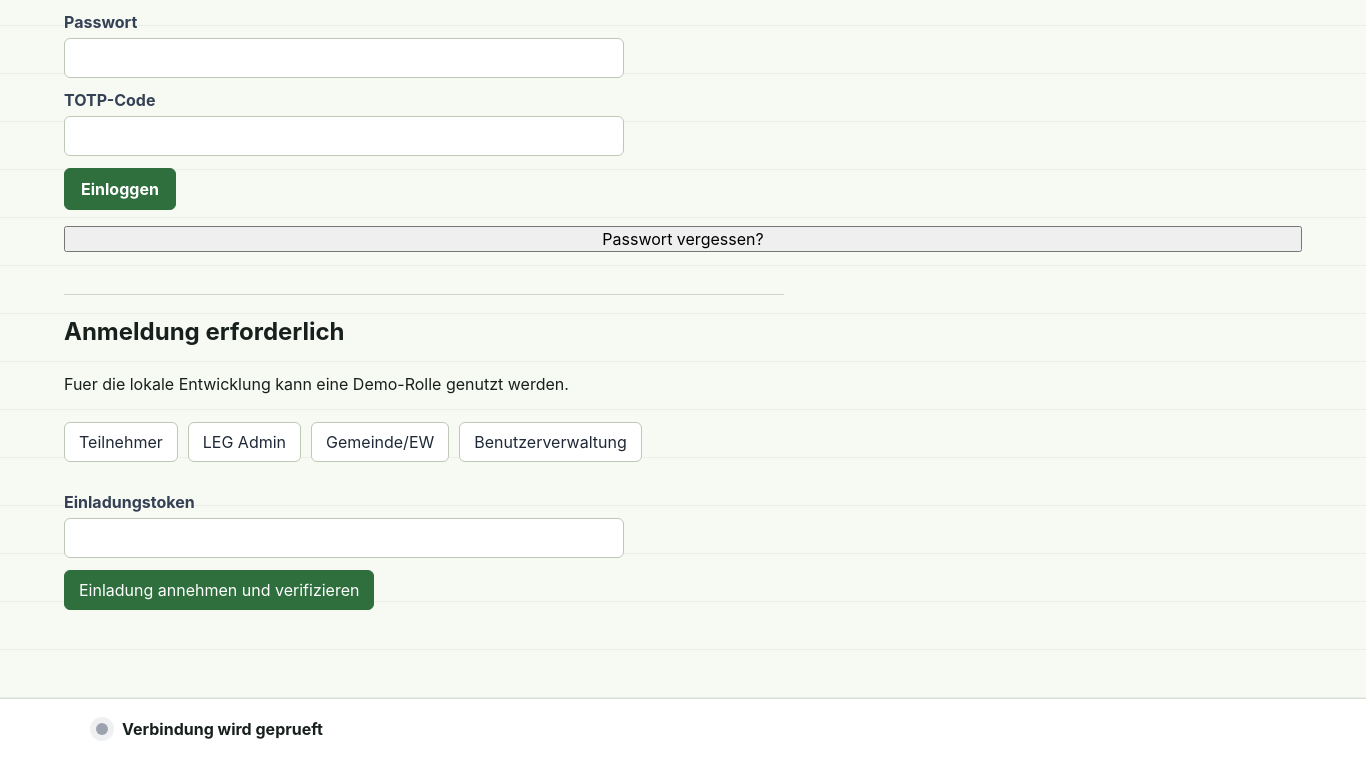
Test: Portal shell › laedt bestehende Zustimmungshistorie beim Teilnehmer-Login
This screenshot has width=1366, height=759.
(page scrolled)
Step 1. Click the button "Teilnehmer" → {"x": 121, "y": 442}, box [64,422,178,462]
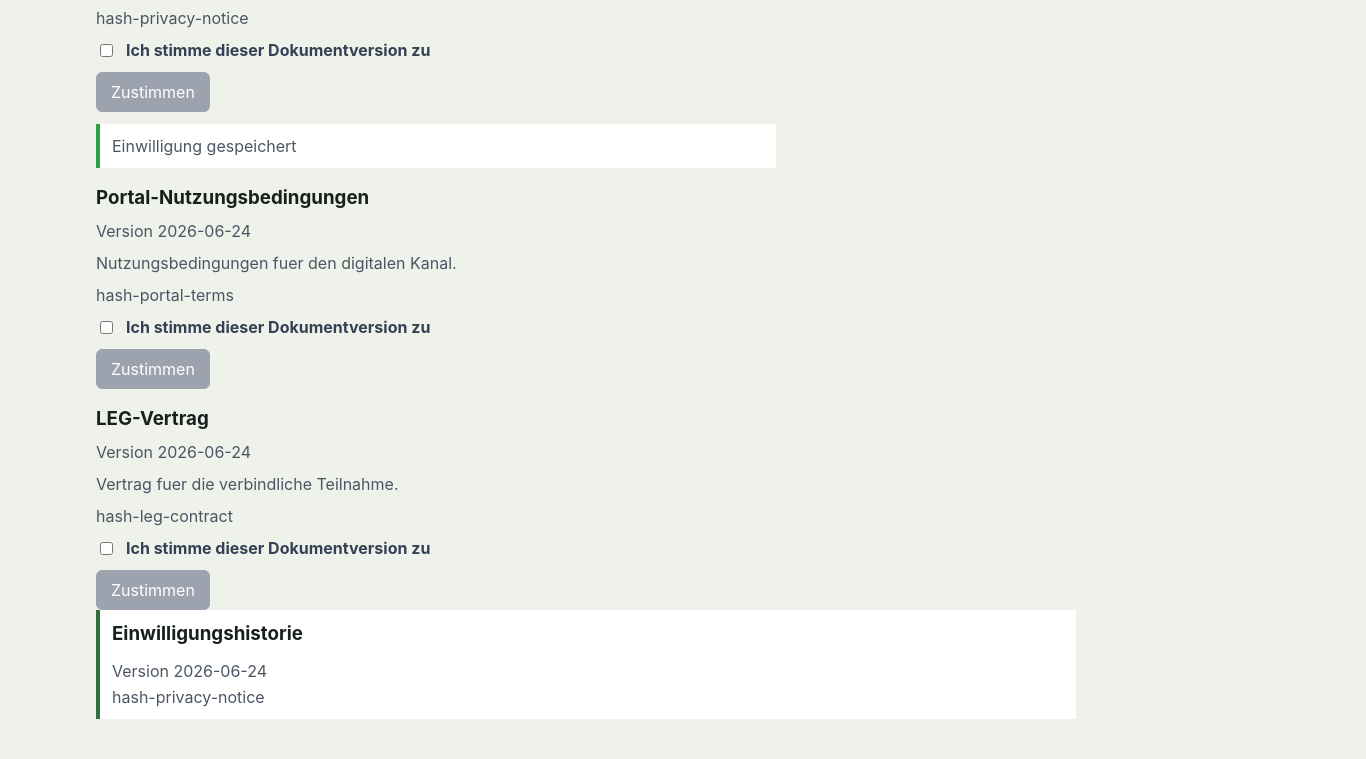
Result: the text "Einwilligung gespeichert" is shown at [112,136,297,156]
Result: the text "hash-privacy-notice" below "Einwilligungshistorie" is shown at [112,687,265,707]
